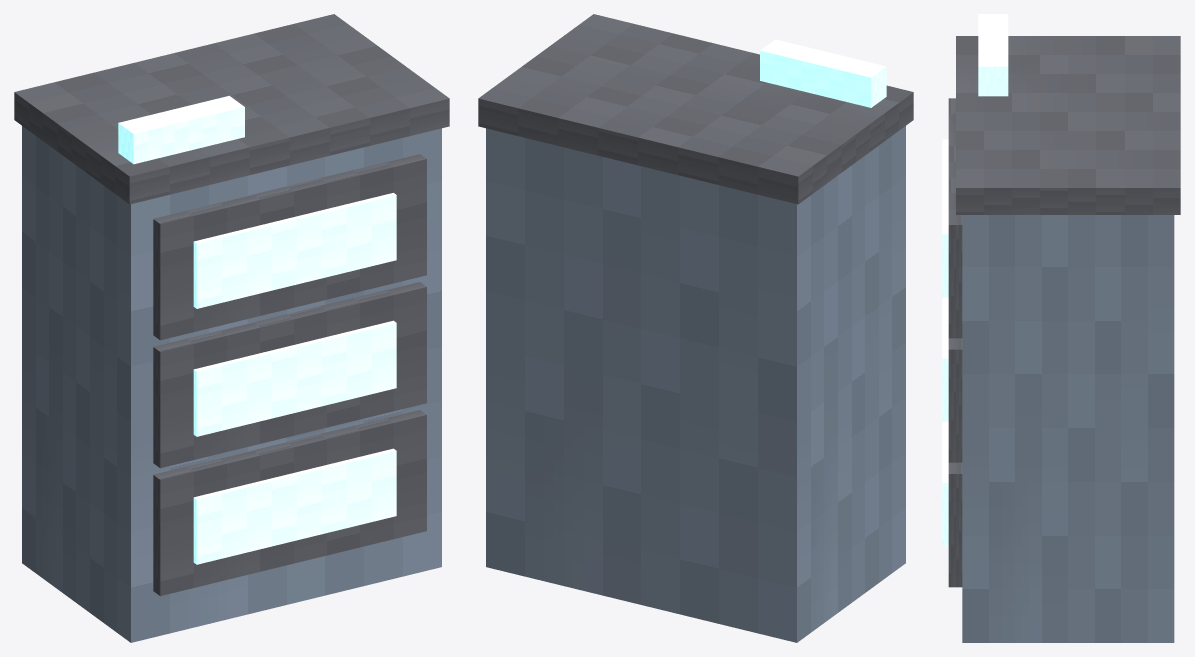
File: pixel-modern-supermarket-bakery-oven-874b11cf__27992.glb
3 views of the same model, side by side, from view 1: azimuth 30°, elevation 25°; view 2: azimuth 150°, elevation 25°; view 3: azimuth 270°, elevation 25° (orthographic). The views are drawn at different scales.
Parts seen in each view (by area): view 1: bakery-oven, door-oven/charcoal, door-oven/cyan; view 2: bakery-oven; view 3: bakery-oven, door-oven/charcoal, door-oven/cyan.
Boxes of the visible parts, x1,y1,x2,y2 form: bakery-oven: (14,14,449,642); door-oven/charcoal: (153,409,426,596); door-oven/cyan: (193,448,396,564); bakery-oven: (478,14,913,642); bakery-oven: (942,14,1180,642); door-oven/charcoal: (948,462,962,587); door-oven/cyan: (942,422,948,546).
Size of the model in its own units: 1.44 by 2.15 by 0.955.
Materials: 3 (3 with a texture image).
